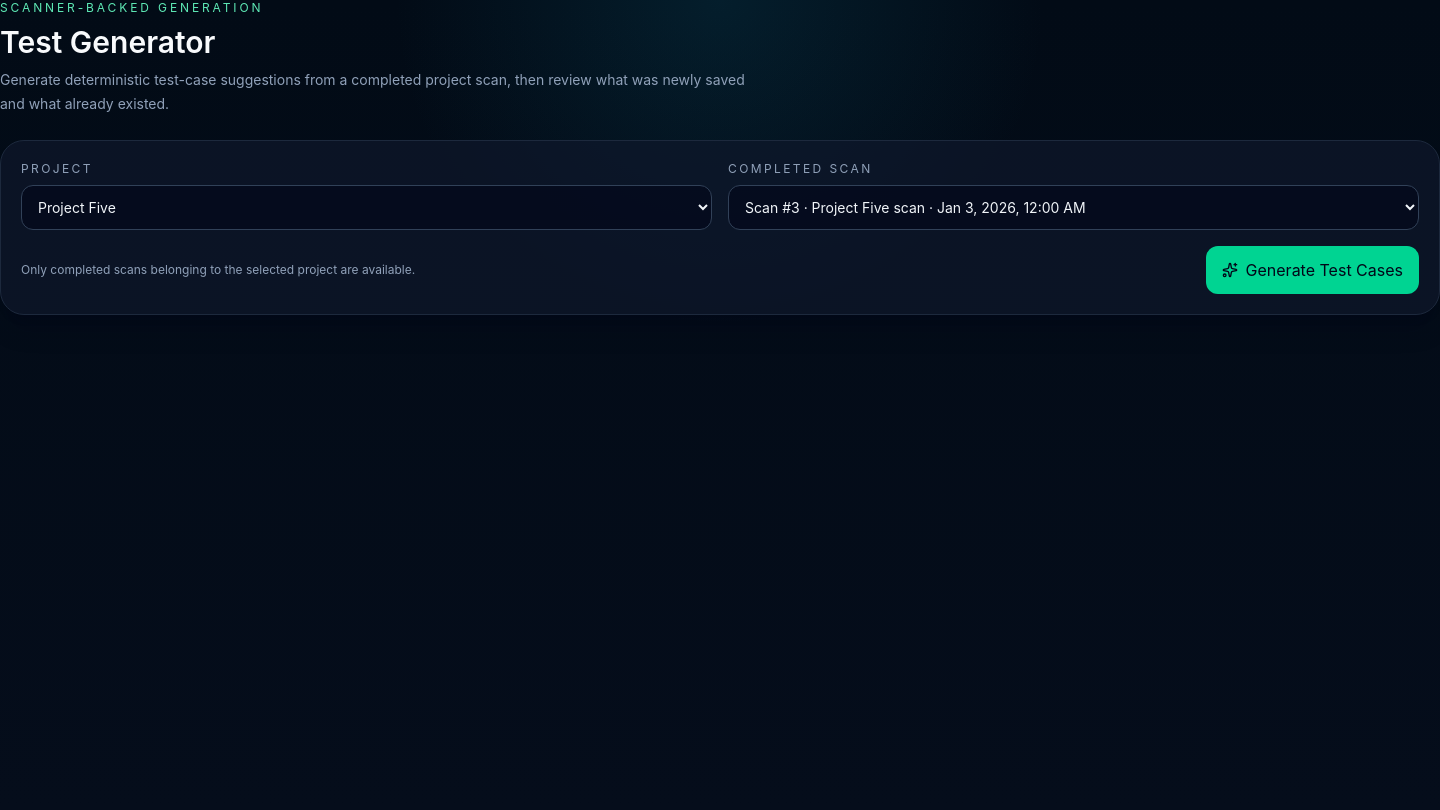
Test case: separate generator and saved inventory pages › loads scans for the selected project and generates using its selected scan
Select "Project Six" in the dropdown labelled "Project". click: (366, 208)
box: [21,185,712,230]
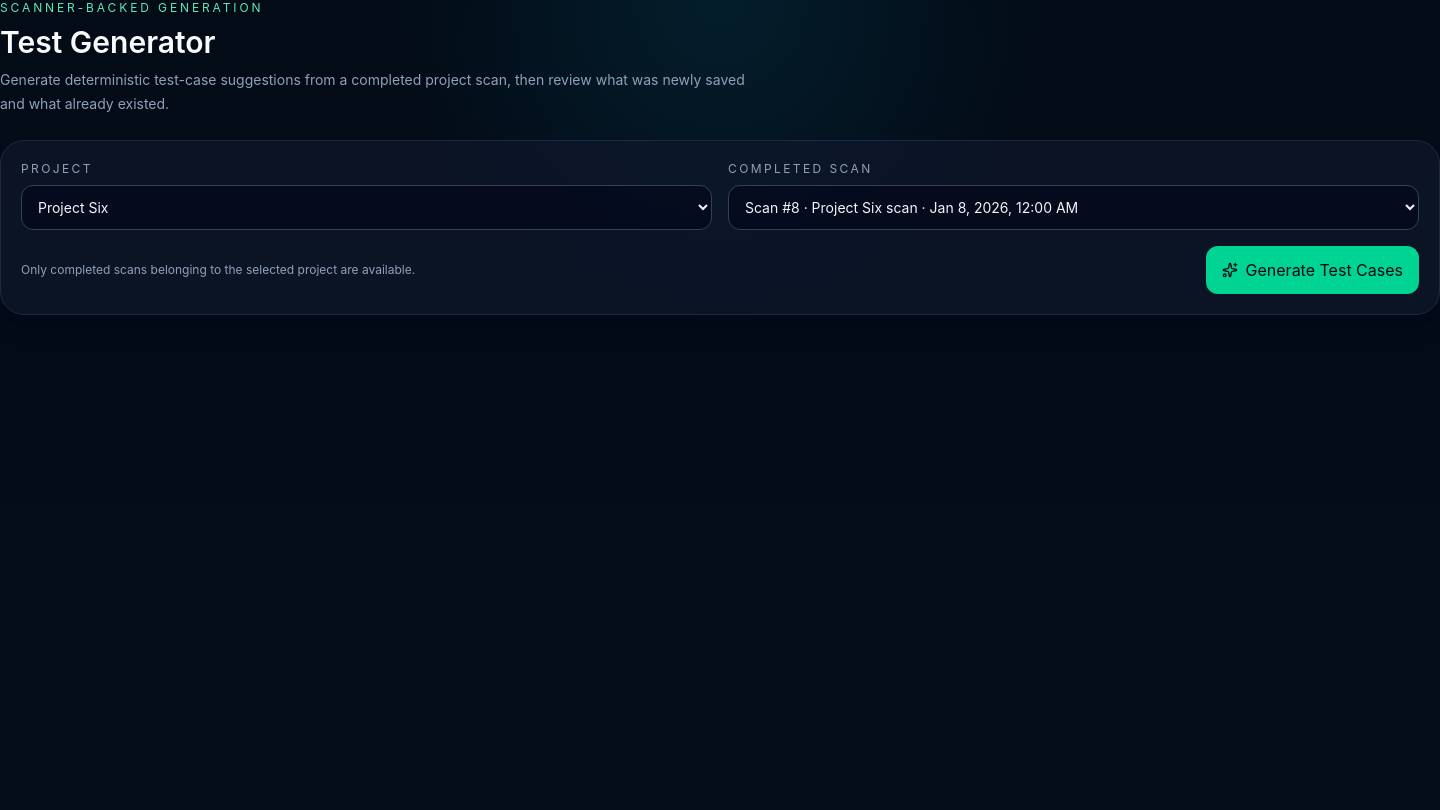
Click the button "Generate Test Cases". click: click(1312, 270)
box: [1206,246,1419,294]
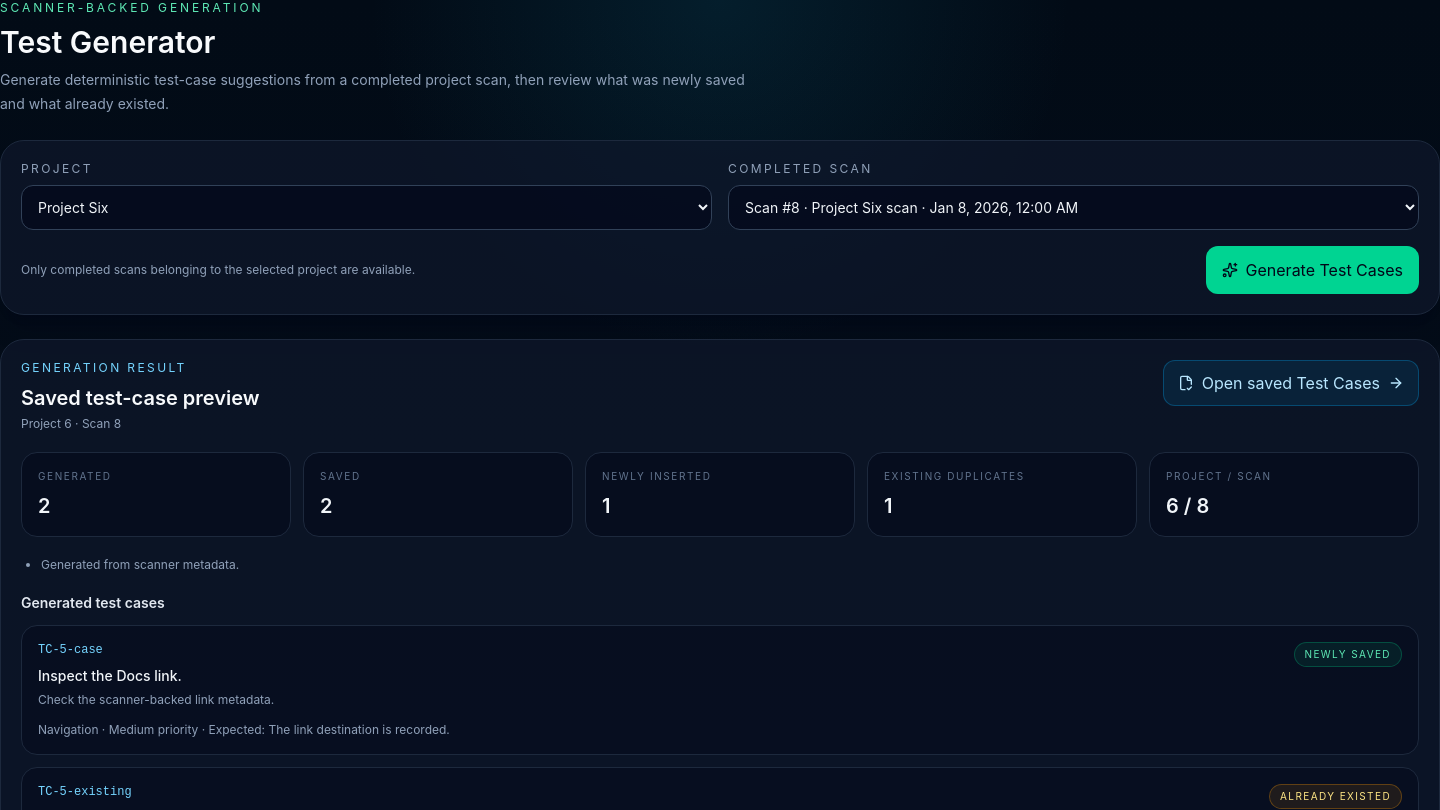
Check: the text "Project / Scan" is shown, box [1166,470,1272,482]
